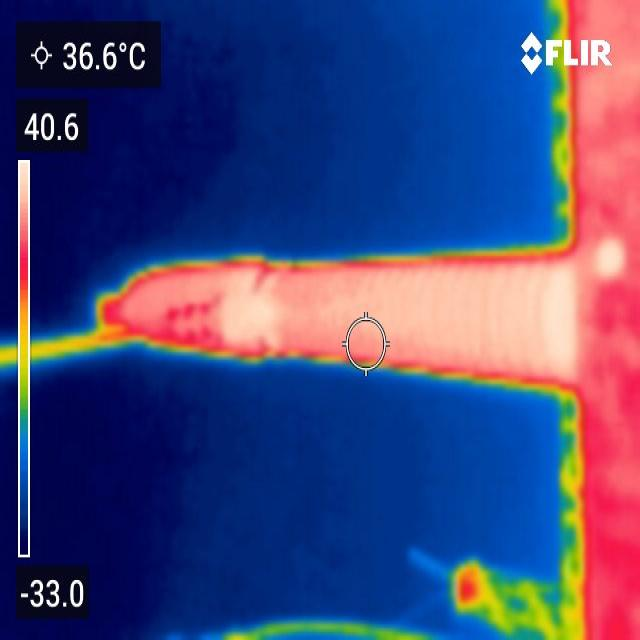Zona_Extrema: (114, 70, 639, 631)
